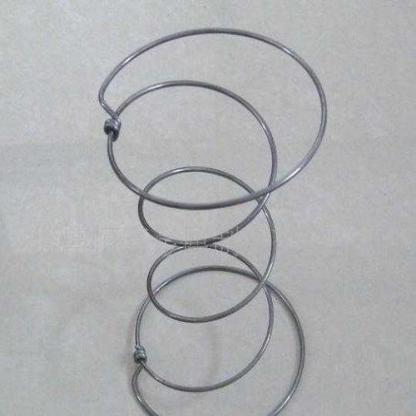FOD: (94, 19, 333, 415)
